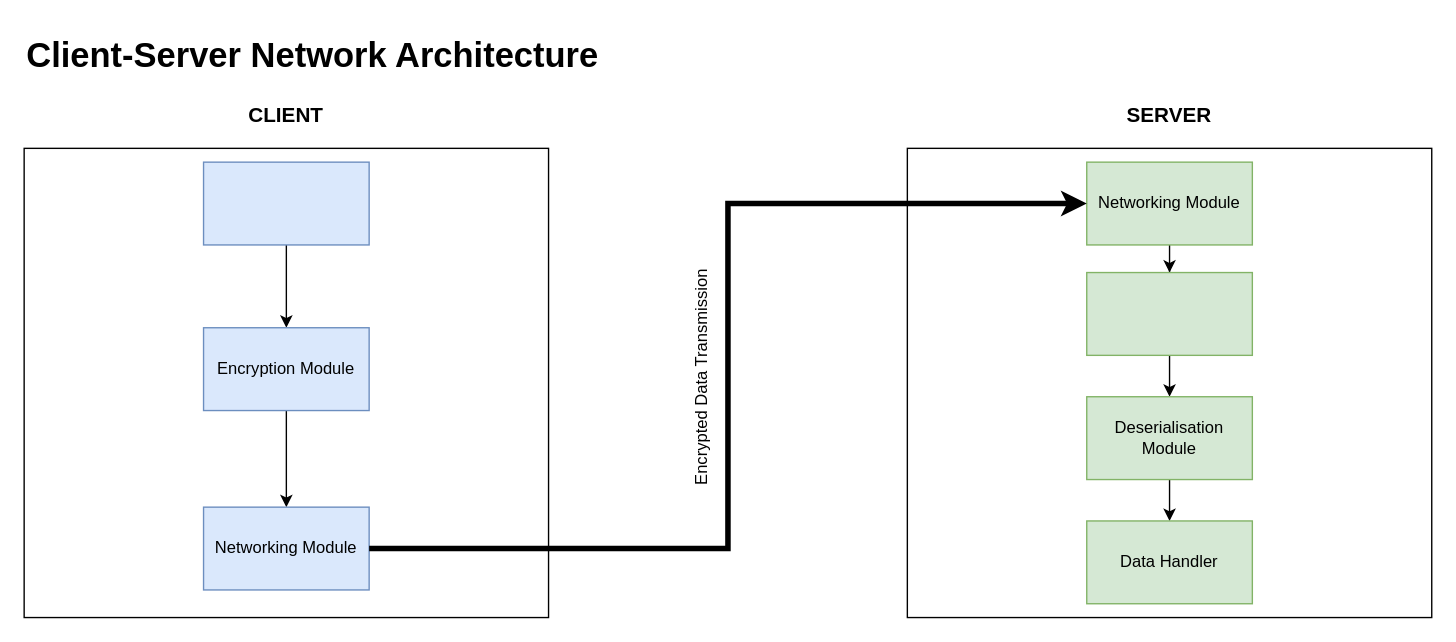
This 1456x642 diagram has some shape labels left out. Each missing label, with the centre of its shape:
Decryption Module: (x=1168, y=313)
Serialisation Module: (x=285, y=203)
